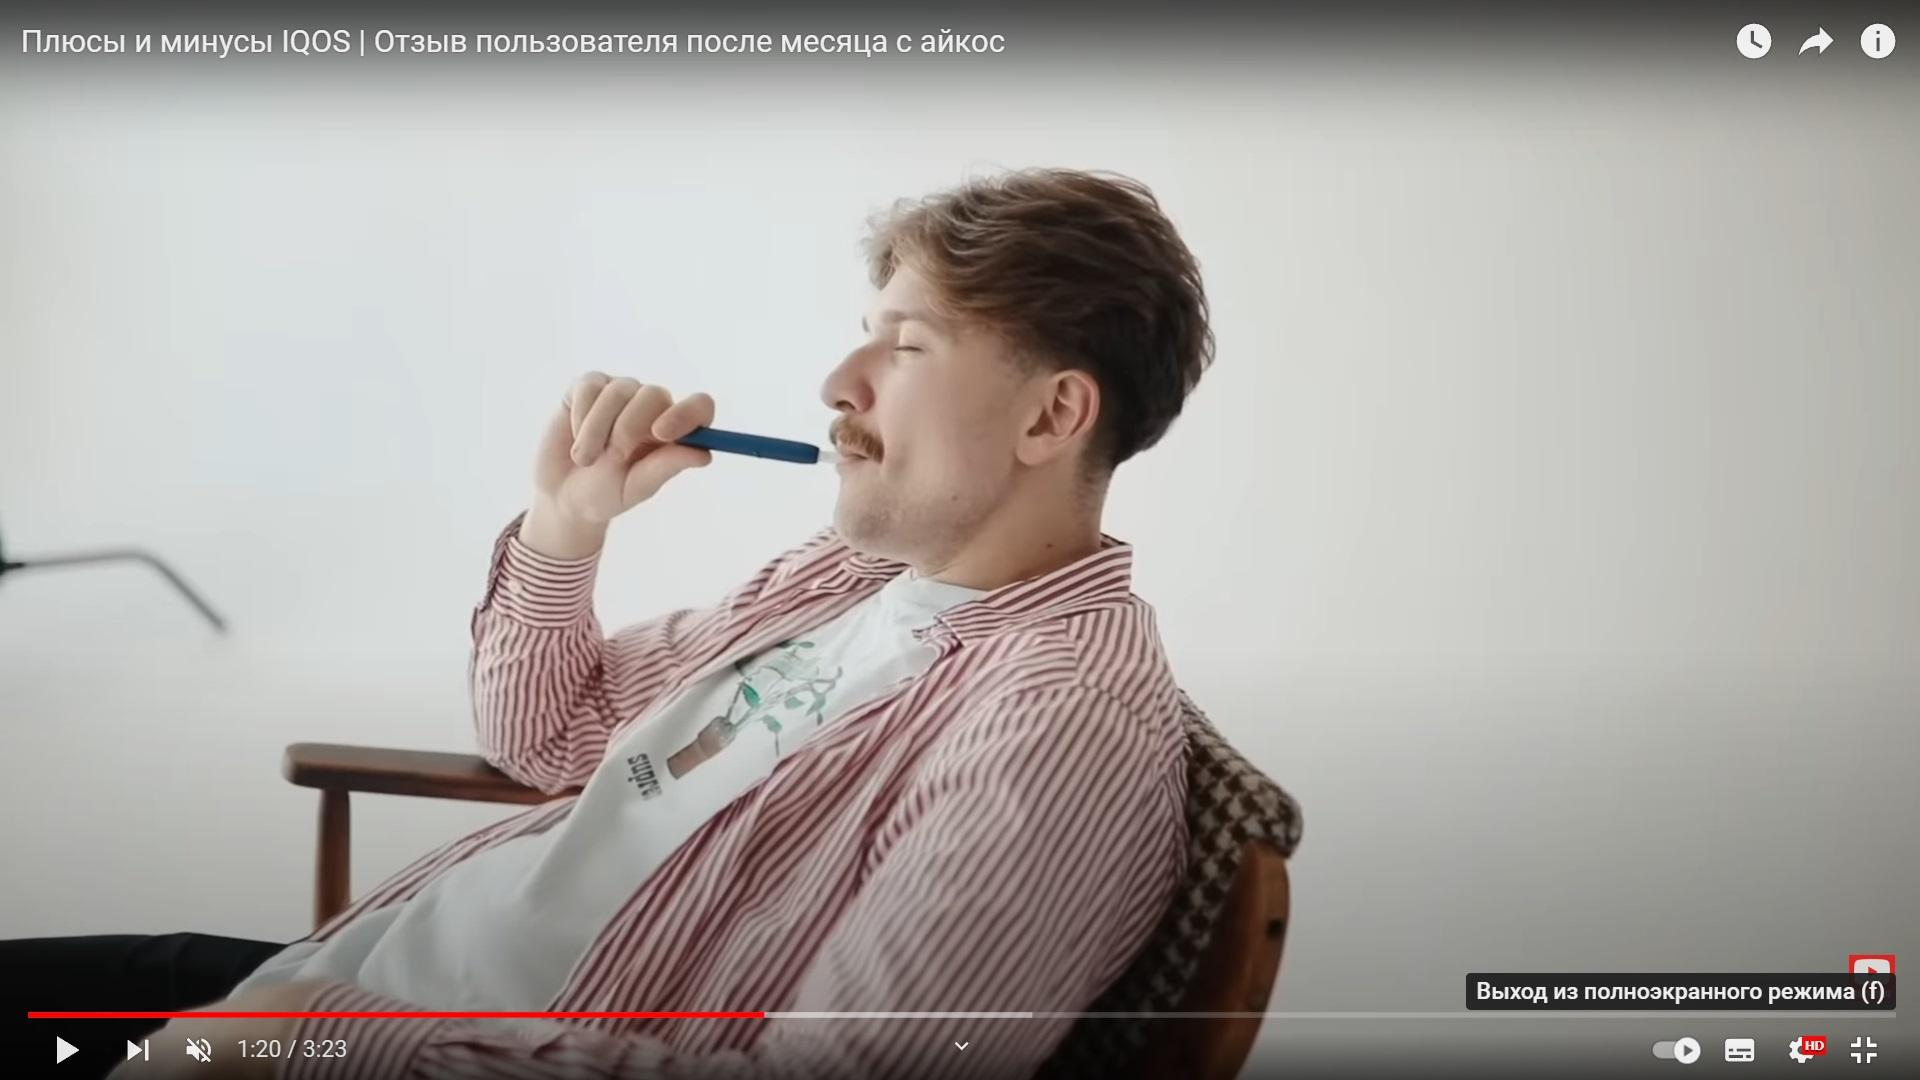iqos: (675, 427, 844, 465)
